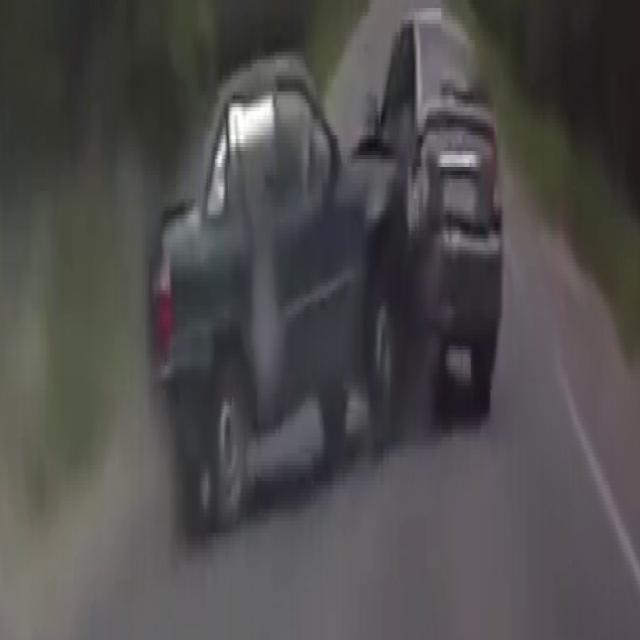accident: (157, 7, 499, 543)
